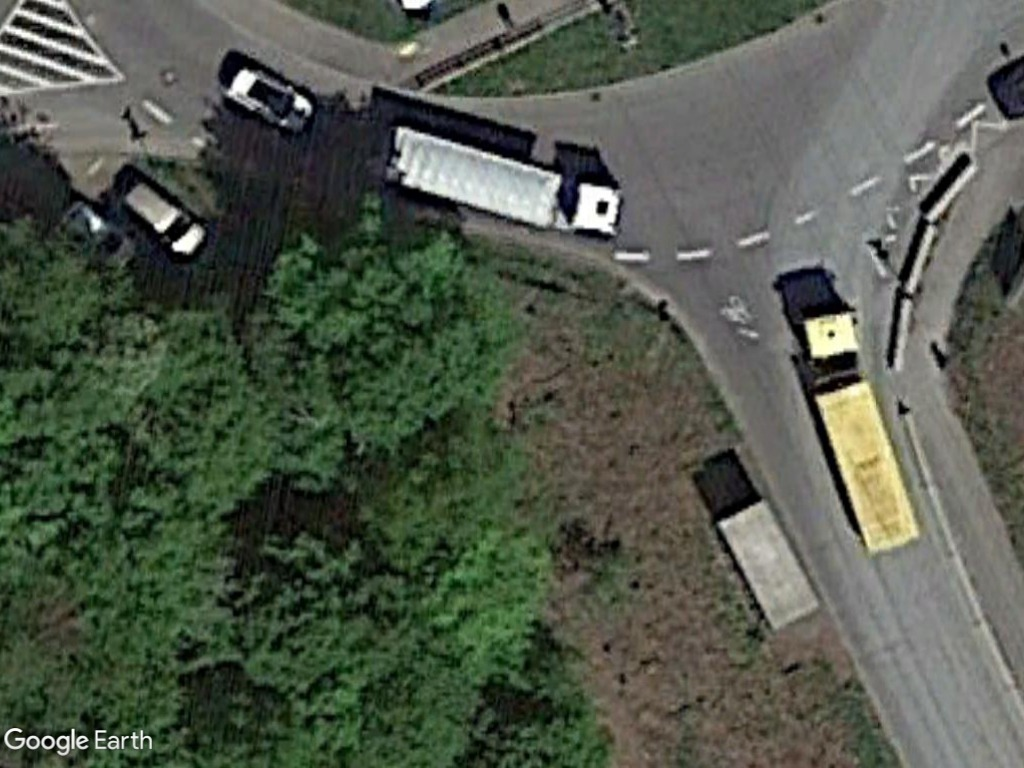truck: (792, 304, 923, 554), (381, 122, 626, 246)
van: (119, 178, 209, 263)
